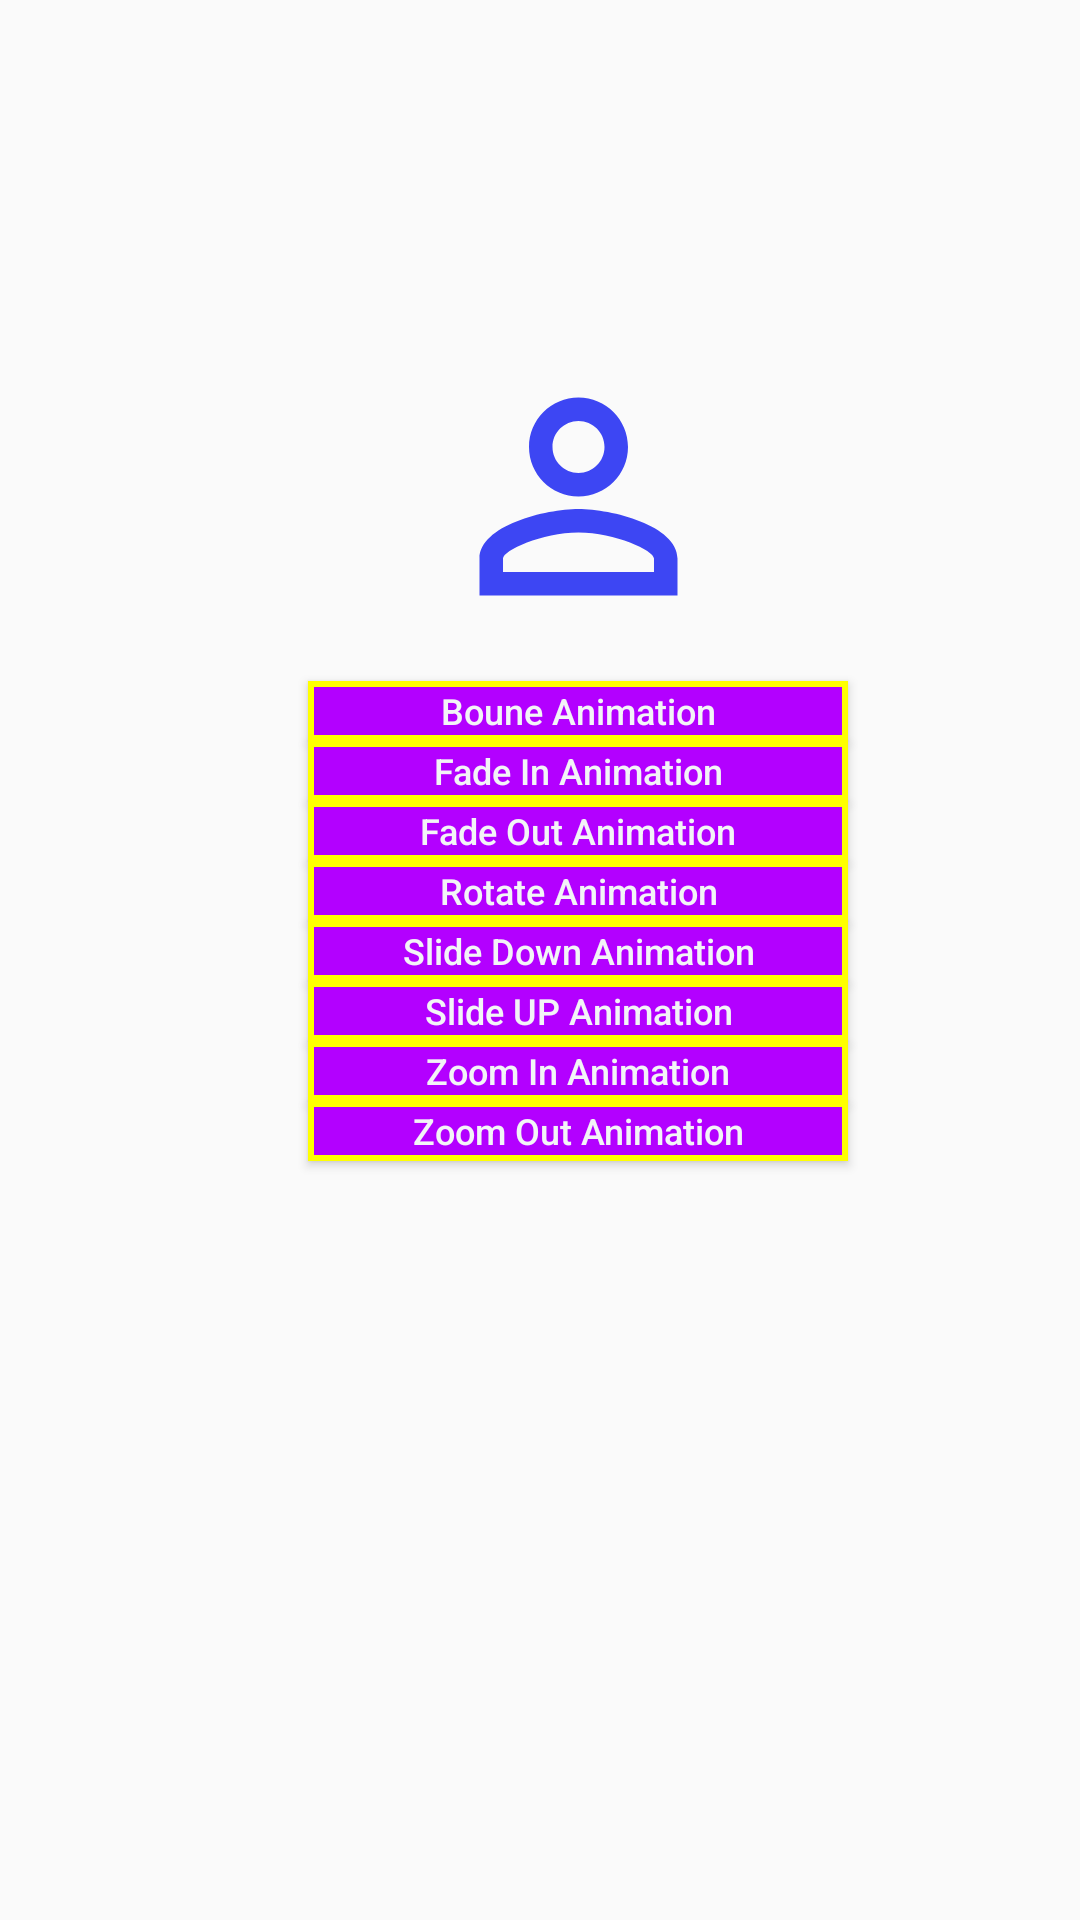

Where to tap for icons on this 1080px x 1920px app screen, as point (x, y):
person: point (578, 496)
